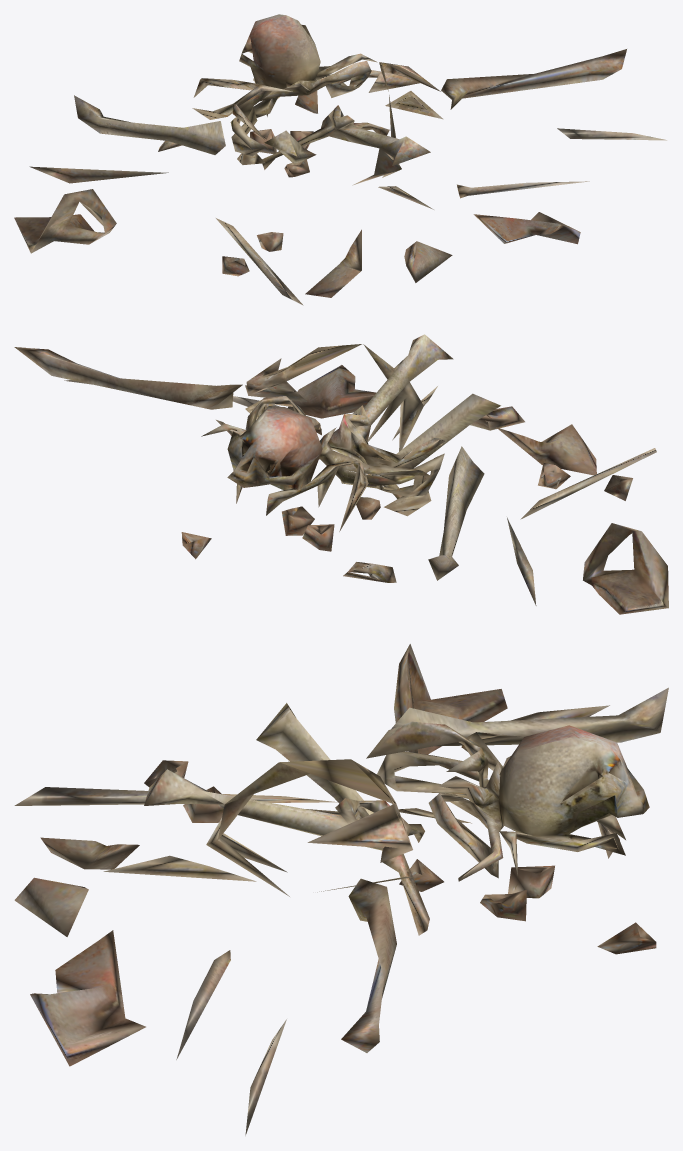
Rendered from item_bones.glb.
3 renders of one model, top to bottom at view 1: azimuth 30°, elevation 25°; view 2: azimuth 150°, elevation 25°; view 3: azimuth 270°, elevation 25°, orthographic. The views are drawn at different scales.
Visible parts, largest first — view 1: tripo_node_0190acee-d29c-4cd5-8bbf-08d8c797d3a4; view 2: tripo_node_0190acee-d29c-4cd5-8bbf-08d8c797d3a4; view 3: tripo_node_0190acee-d29c-4cd5-8bbf-08d8c797d3a4.
Part boxes in pixels (x1,y1,x2,y2): tripo_node_0190acee-d29c-4cd5-8bbf-08d8c797d3a4: (14,14,666,305); tripo_node_0190acee-d29c-4cd5-8bbf-08d8c797d3a4: (14,334,668,614); tripo_node_0190acee-d29c-4cd5-8bbf-08d8c797d3a4: (14,644,668,1135).
Bounding box in the file's own units: 1 × 0.2371 × 0.6175.
1 material, 1 textured.
